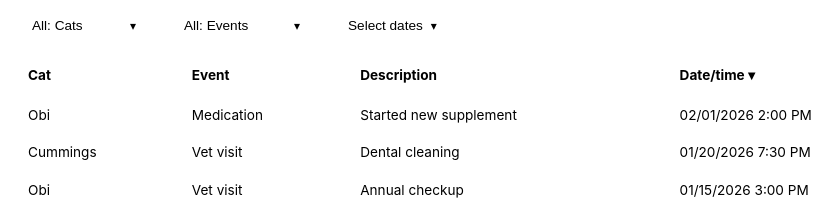
Test: EventLogDashboard sorting › clicking a column header sorts by that column ascending
Click the column heading with test id "sort-cat" at point(39, 75), box left=16, top=56, right=180, bottom=97
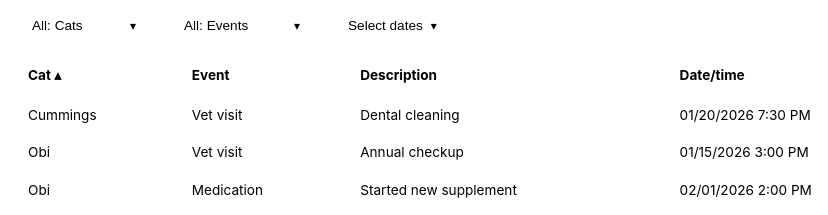
Expected: the cell "Cummings" is shown, left=16, top=97, right=180, bottom=134
